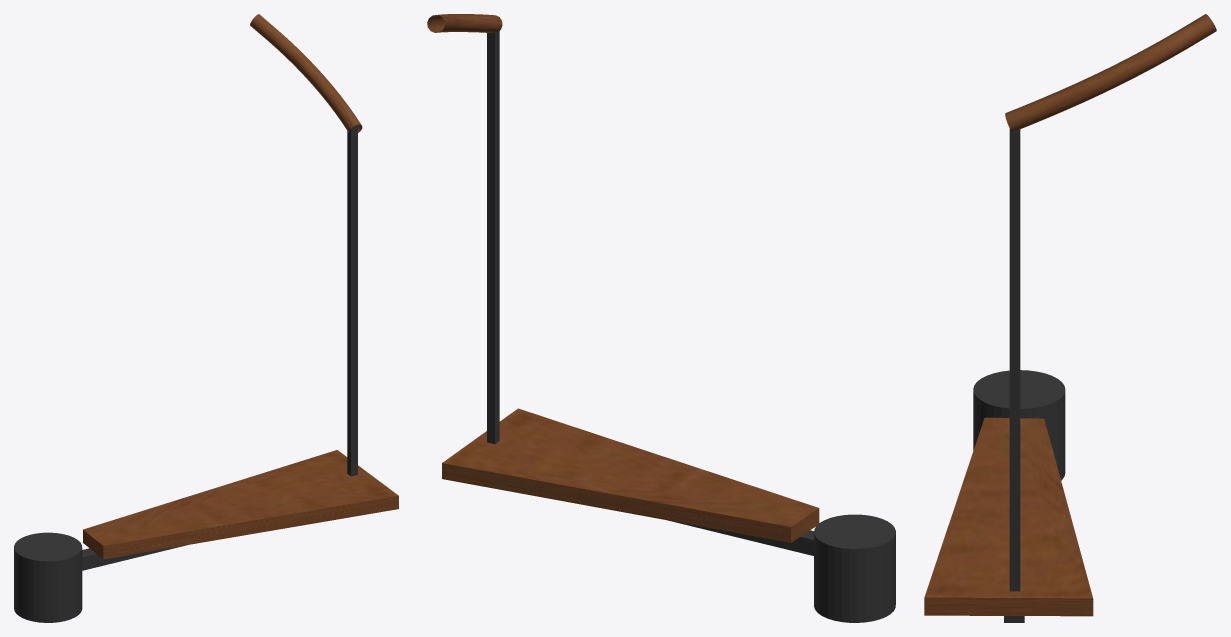
Rendered from StepSpiral.glb.
The picture shows the model from 3 angles, left to right: view 1: azimuth 30°, elevation 25°; view 2: azimuth 150°, elevation 25°; view 3: azimuth 270°, elevation 25°; orthographic projection. The views are drawn at different scales.
Visible parts, largest first — view 1: Cube.002, Cylinder, Cube.001, Spiral.001, Cube; view 2: Cube.002, Cylinder, Cube.001, Spiral.001, Cube; view 3: Cube.002, Cube.001, Spiral.001, Cylinder.
Boxes of the visible parts, bbox=[...] form: Cube.002: bbox=[83, 450, 398, 559]; Cylinder: bbox=[14, 532, 82, 622]; Cube.001: bbox=[347, 124, 357, 476]; Spiral.001: bbox=[250, 14, 362, 133]; Cube: bbox=[82, 545, 187, 570]; Cube.002: bbox=[442, 408, 819, 542]; Cylinder: bbox=[814, 514, 895, 622]; Cube.001: bbox=[487, 18, 499, 444]; Spiral.001: bbox=[427, 14, 502, 32]; Cube: bbox=[669, 520, 813, 555]; Cube.002: bbox=[924, 417, 1093, 616]; Cube.001: bbox=[1009, 128, 1020, 591]; Spiral.001: bbox=[1005, 14, 1216, 131]; Cylinder: bbox=[973, 370, 1065, 480].
Bounding box in the file's own units: 1.03 × 1.35 × 0.5574.
3 materials, 1 textured.
